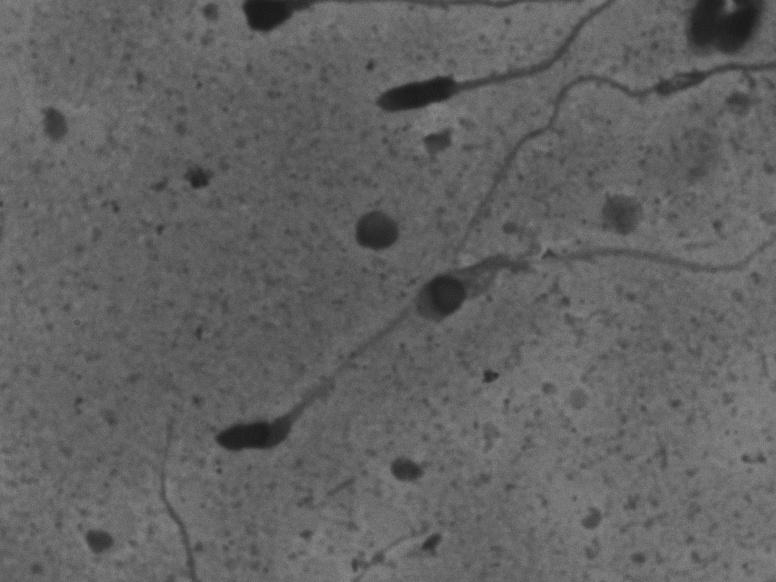Abnormal: (409, 202, 750, 359), (192, 285, 400, 481), (344, 7, 603, 116)
